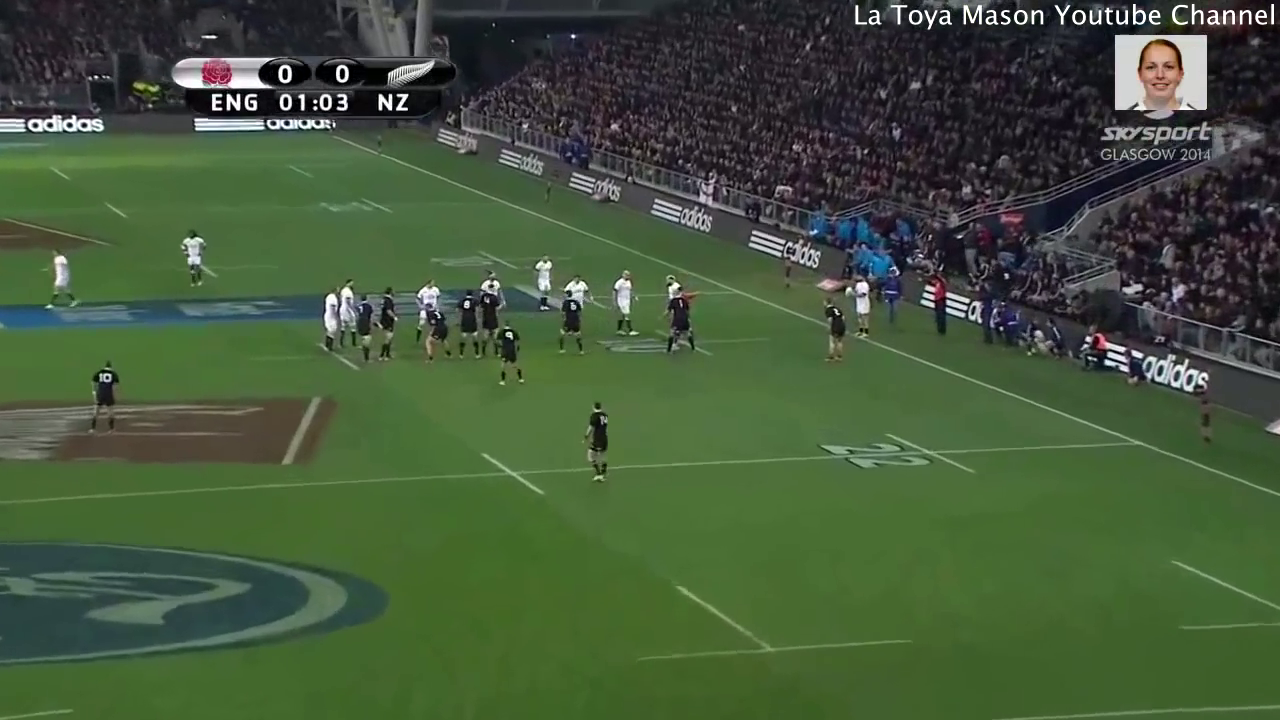10_metre: (598, 322, 775, 362), (426, 249, 577, 274)
ball: (842, 282, 857, 301)
player: (83, 356, 125, 434), (814, 287, 853, 367), (41, 244, 83, 315), (176, 225, 216, 297), (581, 398, 612, 487), (606, 268, 642, 338), (845, 266, 875, 344), (664, 290, 699, 352), (373, 281, 398, 364), (422, 304, 457, 358), (558, 288, 584, 360), (496, 322, 524, 386), (456, 288, 480, 359), (478, 287, 500, 359), (357, 292, 378, 367), (338, 276, 360, 347), (321, 288, 343, 357), (532, 254, 553, 313), (413, 276, 444, 314), (564, 273, 589, 301), (661, 272, 685, 300), (481, 272, 501, 295)
